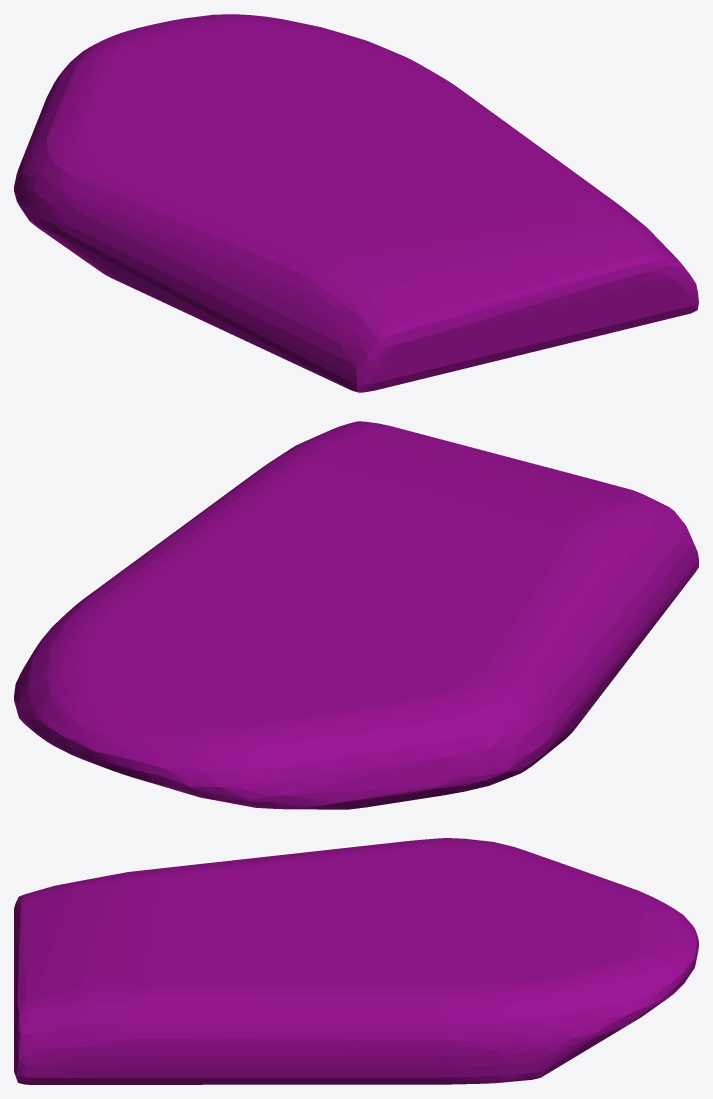
Rendered from right_hip_pitch_link_part_14.obj.
3 renders of one model, top to bottom at view 1: azimuth 30°, elevation 25°; view 2: azimuth 150°, elevation 25°; view 3: azimuth 270°, elevation 25°, orthographic. The views are drawn at different scales.
Bounding box in the file's own units: 0.087 × 0.0157 × 0.1287.
